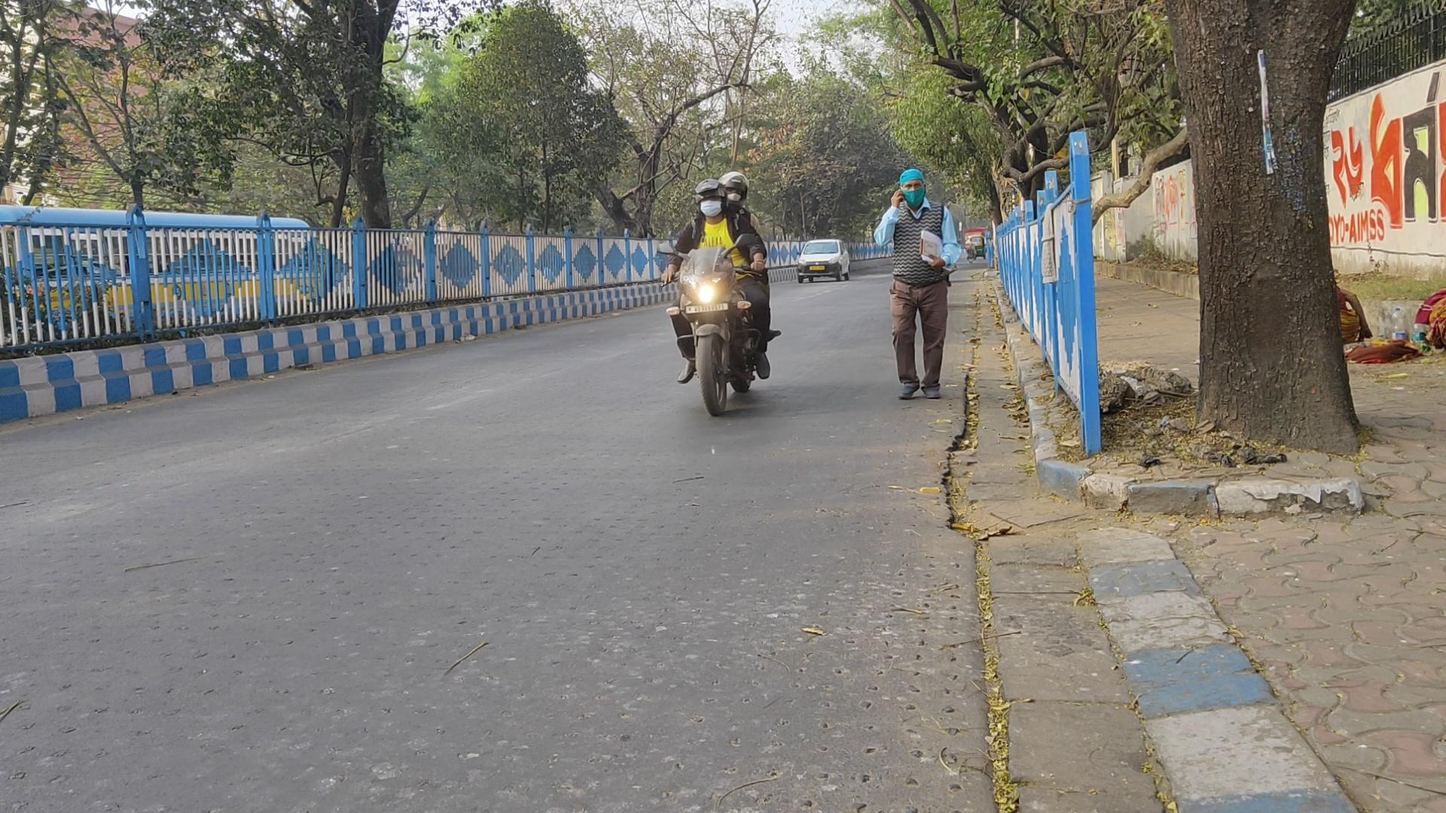Auto: (965, 234, 987, 260)
bike: (659, 170, 772, 417)
car: (797, 237, 849, 285)
